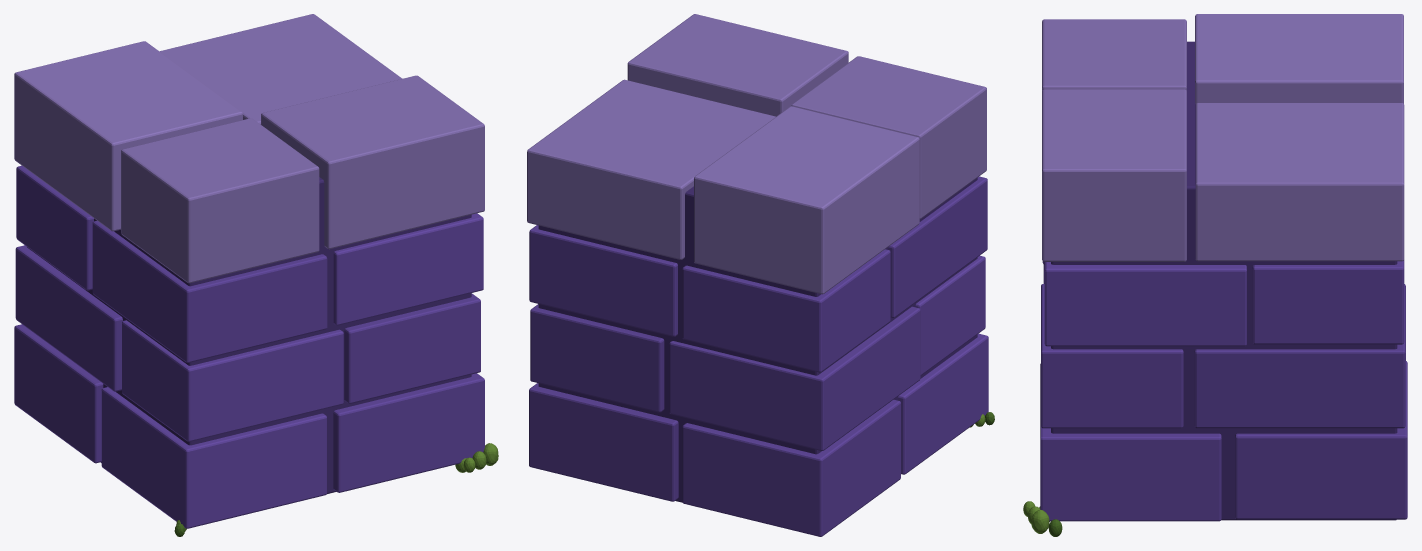
File: wall.glb
3 views of the same model, side by side, from view 1: azimuth 30°, elevation 25°; view 2: azimuth 150°, elevation 25°; view 3: azimuth 270°, elevation 25° (orthographic). The views are drawn at different scales.
Parts seen in each view (by area): view 1: Wall; view 2: Wall; view 3: Wall.
Boxes of the visible parts, left/top/right/bottom form: Wall: left=14, top=14, right=498, bottom=536; Wall: left=527, top=14, right=994, bottom=536; Wall: left=1023, top=14, right=1407, bottom=536.
Size of the model in its own units: 1.04 by 1.08 by 1.03.
